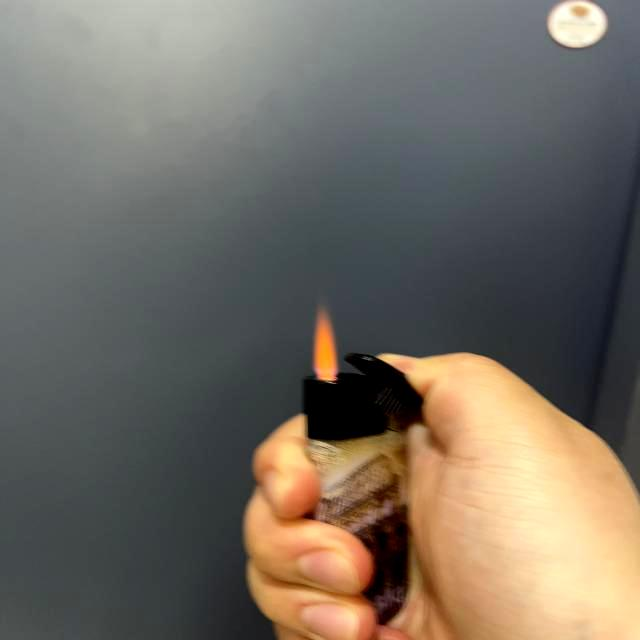fire: (310, 295, 342, 381)
